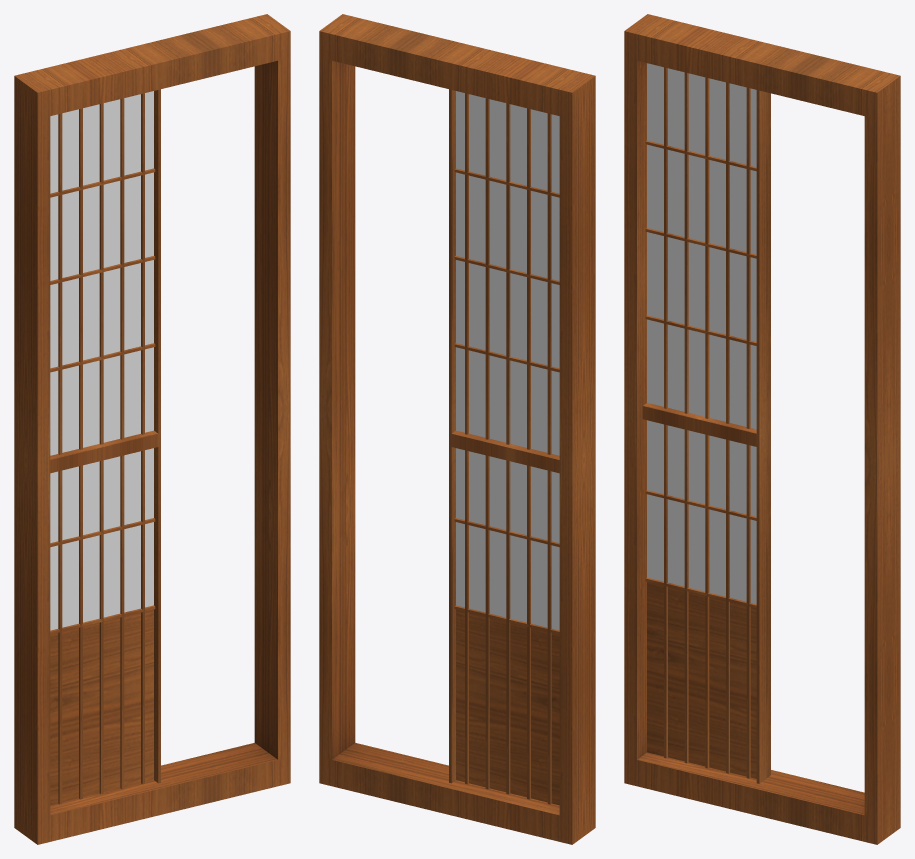
Rendered from Door3.a.fbx.
3 renders of one model, left to right at view 1: azimuth 30°, elevation 25°; view 2: azimuth 150°, elevation 25°; view 3: azimuth 330°, elevation 25°, orthographic.
Parts seen in each view (by area): view 1: Group 0; view 2: Group 0; view 3: Group 0.
Part boxes in pixels (box(x1,y1,x2,y2)): Group 0: box(14, 14, 290, 844); Group 0: box(319, 14, 595, 844); Group 0: box(624, 14, 900, 844).
Bounding box in the file's own units: 100 × 284 × 16.
5 materials, 5 textured.
